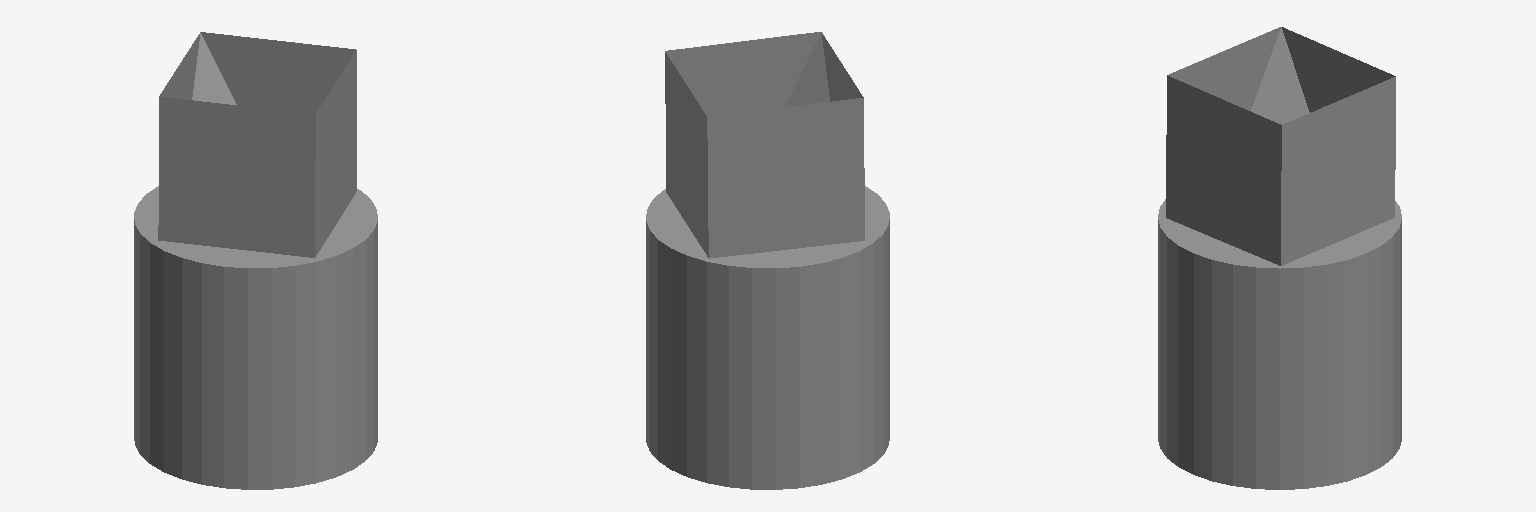
Rendered from PillaBtn.mtl.obj.
The picture shows the model from 3 angles: view 1: azimuth 30°, elevation 25°; view 2: azimuth 150°, elevation 25°; view 3: azimuth 270°, elevation 25°; orthographic projection.
Visible parts, largest first — view 1: Cylinder; view 2: Cylinder; view 3: Cylinder.
Part boxes in pixels (x1,y1,x2,y2): Cylinder: (134, 32, 377, 489); Cylinder: (646, 32, 889, 489); Cylinder: (1158, 27, 1401, 489).
Bounding box in the file's own units: 1.69 × 2.78 × 1.69.